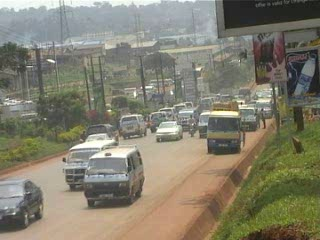Car: (0, 175, 48, 231), (84, 120, 121, 148), (152, 121, 185, 144), (145, 110, 170, 132)
Motorcycle: (186, 115, 197, 139)
